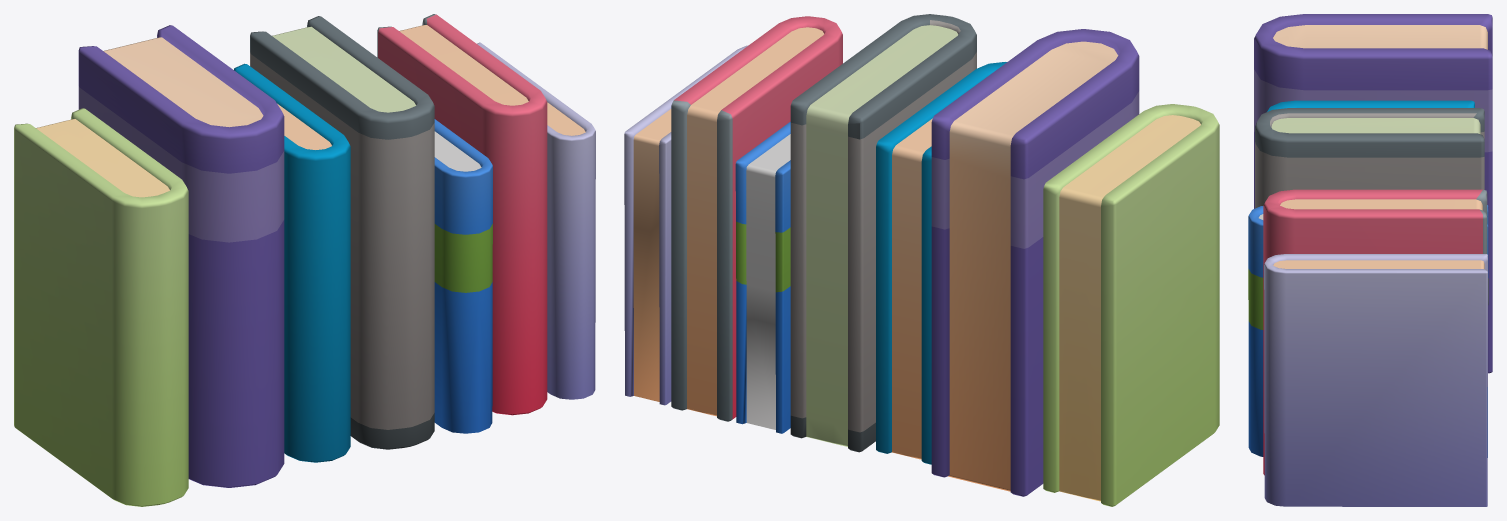
Rendered from Book_002.fbx.
3 views of the same model, side by side, from view 1: azimuth 30°, elevation 25°; view 2: azimuth 150°, elevation 25°; view 3: azimuth 270°, elevation 25° (orthographic). The views are drawn at different scales.
Visible parts, largest first — view 1: Book_002; view 2: Book_002; view 3: Book_002.
Part boxes in pixels (<box>): Book_002: <box>14,14,595,506</box>; Book_002: <box>624,14,1219,506</box>; Book_002: <box>1248,14,1492,506</box>.
Size of the model in its own units: 0.4457 by 0.3164 by 0.2195.
